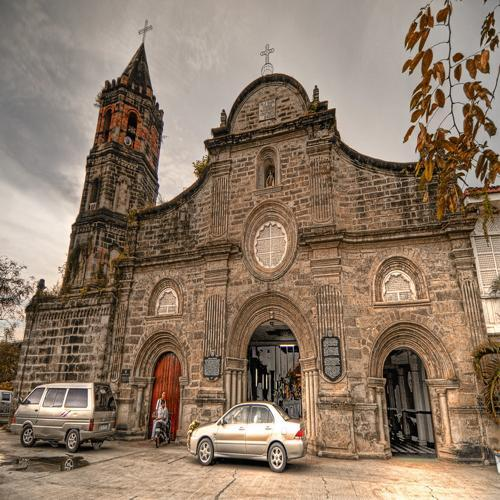Barasoain Church: (15, 10, 488, 472)
